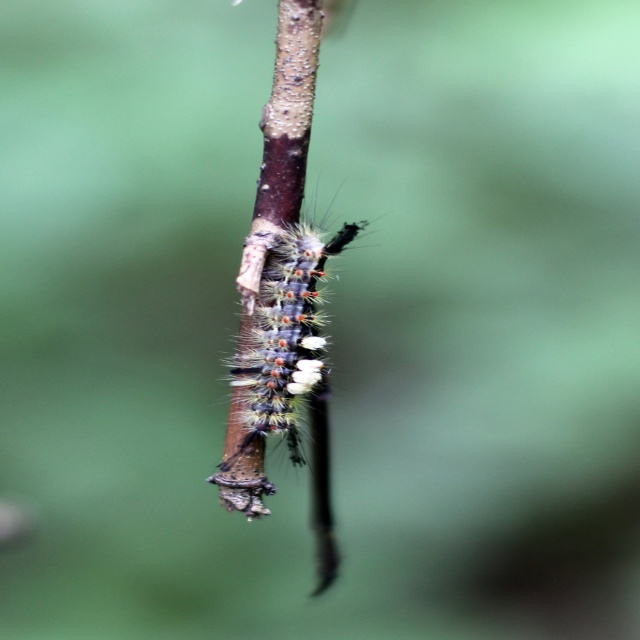Caterpillar: (207, 171, 386, 469)
